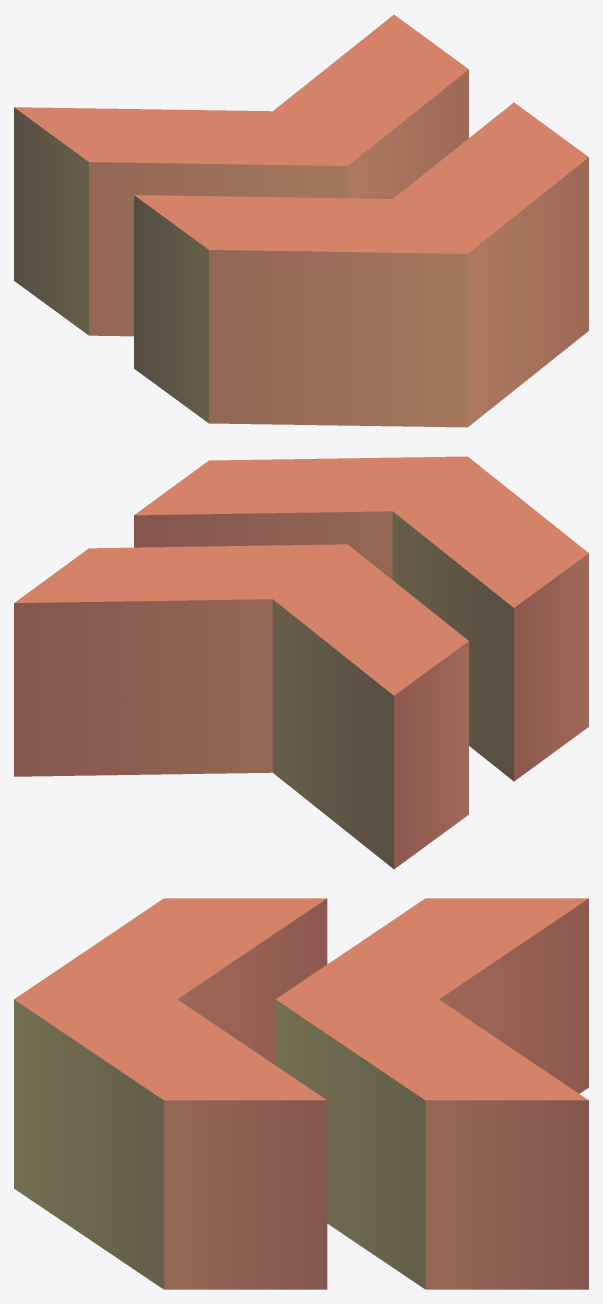
The model's file is arrow.glb.
The picture shows the model from 3 angles, top to bottom: view 1: azimuth 30°, elevation 25°; view 2: azimuth 150°, elevation 25°; view 3: azimuth 270°, elevation 25°; orthographic projection. The views are drawn at different scales.
Visible parts, largest first — view 1: PathArrow; view 2: PathArrow; view 3: PathArrow.
Part boxes in pixels (<box>): PathArrow: <box>14,14,588,427</box>; PathArrow: <box>14,456,588,869</box>; PathArrow: <box>14,898,588,1289</box>.
Bounding box in the file's own units: 0.7927 × 0.346 × 0.9528.
